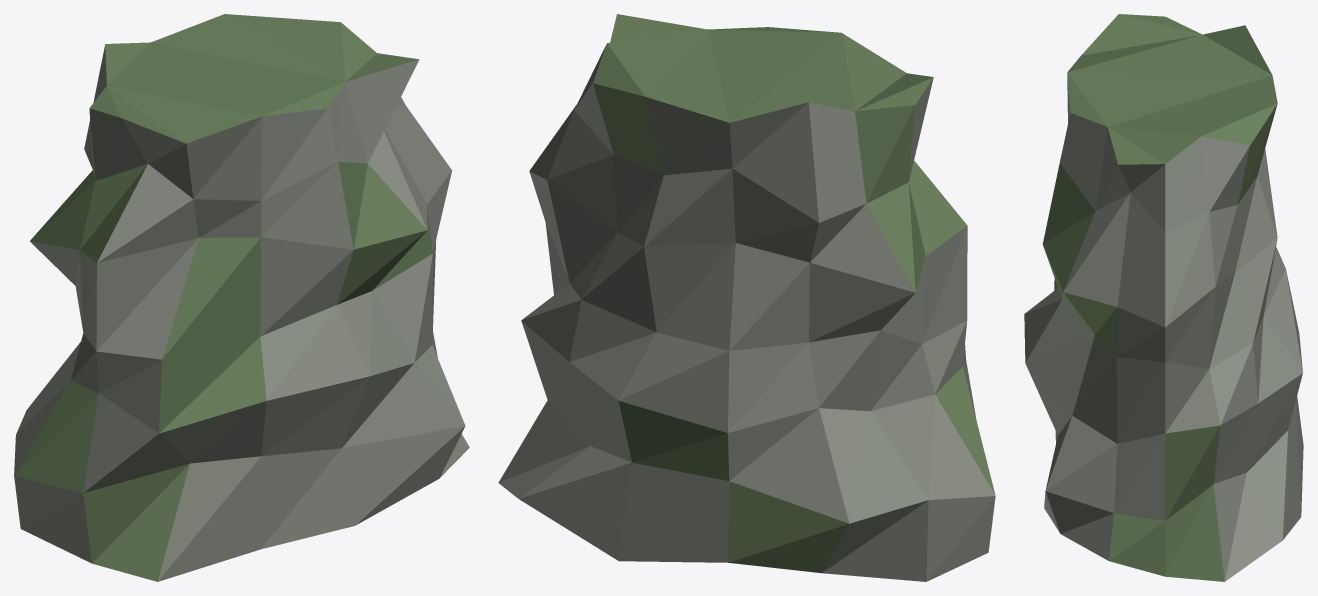
The model's file is SM_CliffRock.fbx.
The picture shows the model from 3 angles, left to right: view 1: azimuth 30°, elevation 25°; view 2: azimuth 150°, elevation 25°; view 3: azimuth 270°, elevation 25°; orthographic projection. The views are drawn at different scales.
Visible parts, largest first — view 1: SM_CliffRock; view 2: SM_CliffRock; view 3: SM_CliffRock.
Boxes of the visible parts, x1,y1,x2,y2 form: SM_CliffRock: (14,14,469,581); SM_CliffRock: (498,14,995,581); SM_CliffRock: (1024,14,1303,581).
Size of the model in its own units: 317 by 184 by 313.
